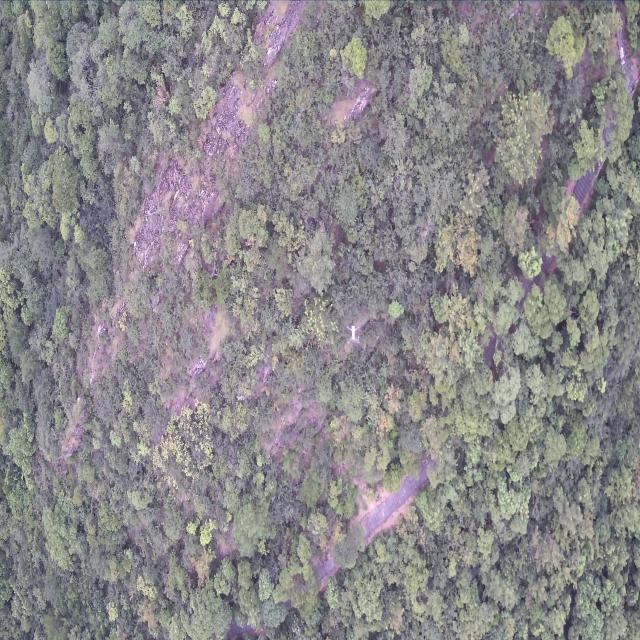UAV: (346, 325, 362, 345)
